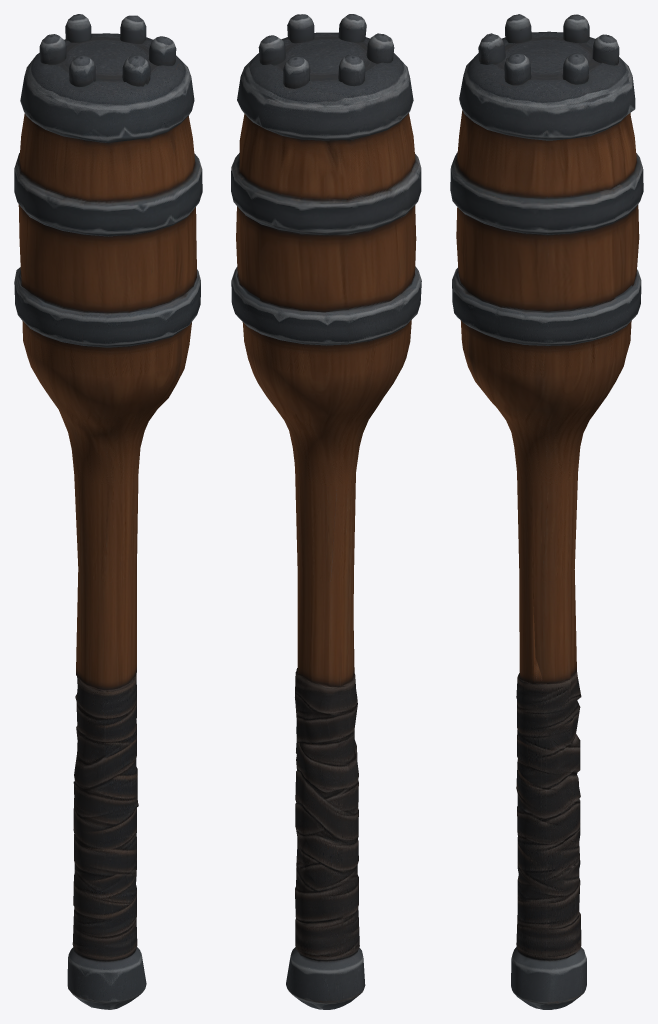
Rendered from Club.glb.
The picture shows the model from 3 angles, left to right: view 1: azimuth 30°, elevation 25°; view 2: azimuth 150°, elevation 25°; view 3: azimuth 270°, elevation 25°; orthographic projection.
Size of the model in its own units: 0.168 by 0.9507 by 0.1714.
1 material, 1 textured.
